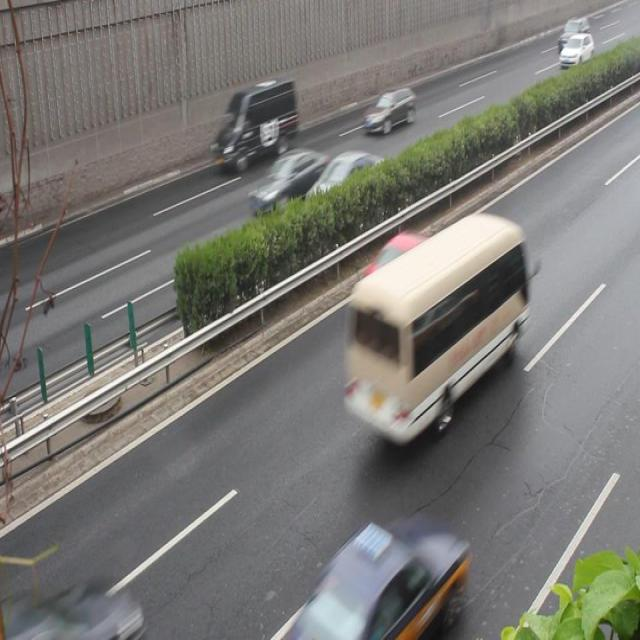car: (294, 522, 464, 640), (362, 232, 465, 319), (306, 150, 386, 222), (250, 149, 333, 217), (363, 88, 414, 138)
truck: (342, 215, 524, 448), (212, 79, 298, 170)
